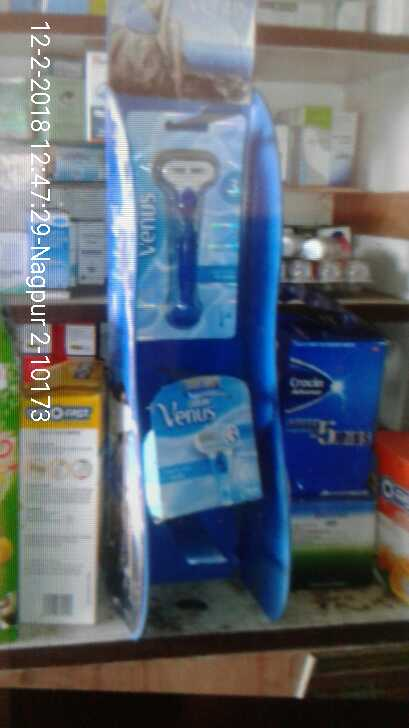venus: (125, 112, 237, 340), (147, 376, 270, 519)
